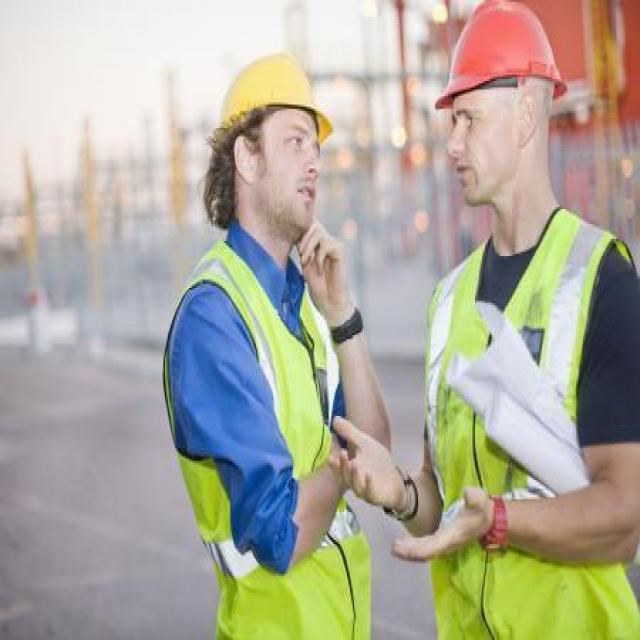hat: (433, 2, 585, 228), (209, 45, 340, 244)
